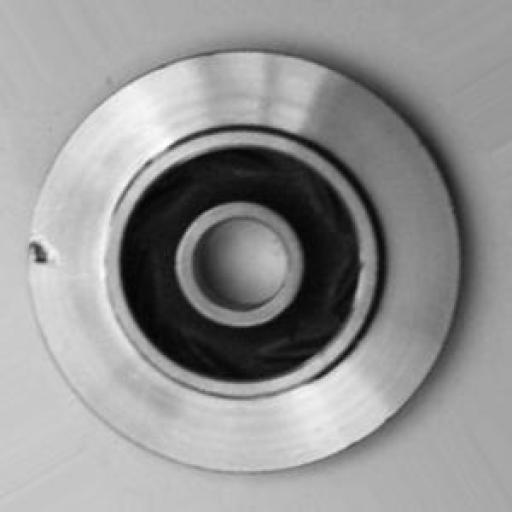defect: (19, 202, 69, 302)
